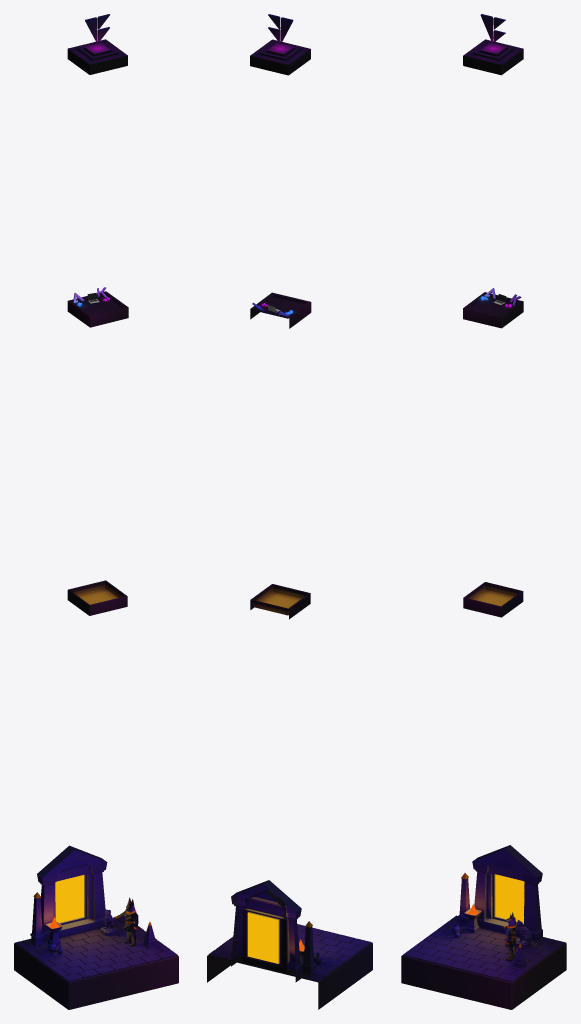
Rendered from Web7.glb.
3 renders of one model, left to right at view 1: azimuth 30°, elevation 25°; view 2: azimuth 150°, elevation 25°; view 3: azimuth 330°, elevation 25°, orthographic.
Parts seen in each view (by area): view 1: Cube, AKLogo; view 2: Cube, AKLogo; view 3: Cube, AKLogo.
Part boxes in pixels (left/top/right/bottom): Cube: left=14, top=39, right=178, bottom=1009; AKLogo: left=85, top=14, right=109, bottom=42; Cube: left=207, top=39, right=372, bottom=1009; AKLogo: left=268, top=14, right=293, bottom=42; Cube: left=401, top=39, right=566, bottom=1009; AKLogo: left=480, top=14, right=505, bottom=42.
Size of the model in its own units: 10.56 by 87.1 by 9.11.
Materials: 39 (14 with a texture image).
